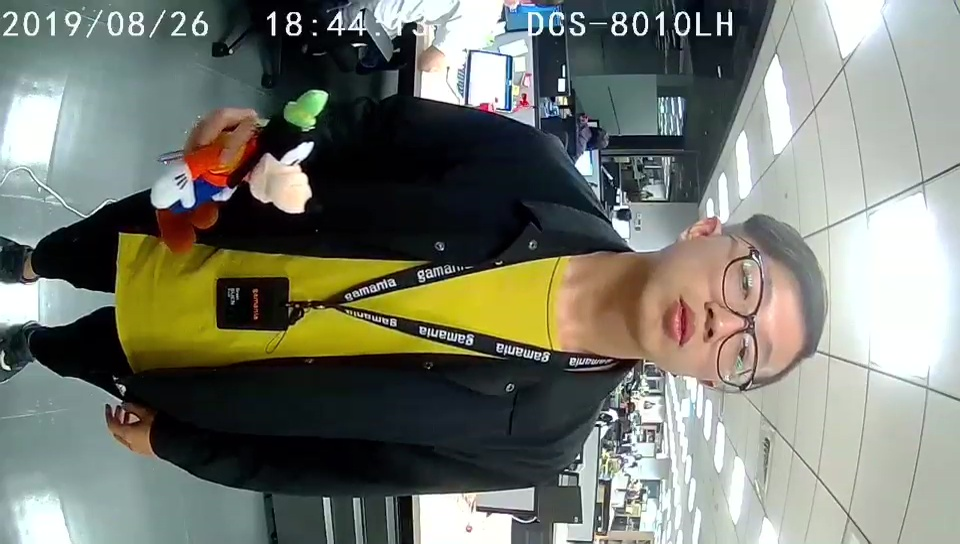goofy: (148, 87, 330, 257)
